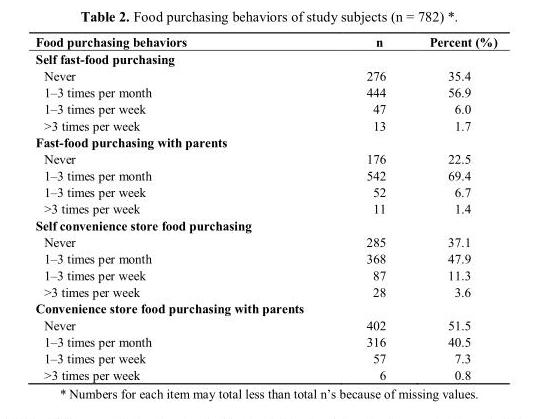table: (34, 34, 496, 381)
table column: (34, 34, 334, 381), (407, 34, 496, 381), (334, 34, 407, 381)
table column header: (34, 34, 496, 49)
table projected row header: (34, 49, 496, 66), (34, 133, 496, 150), (34, 216, 496, 233), (34, 299, 496, 316)
table row: (34, 49, 496, 66), (34, 66, 496, 83), (34, 83, 496, 100), (34, 116, 496, 133), (34, 133, 496, 150), (34, 166, 496, 183), (34, 199, 496, 216), (34, 216, 496, 233), (34, 249, 496, 266), (34, 266, 496, 283), (34, 299, 496, 316), (34, 316, 496, 333), (34, 349, 496, 366), (34, 100, 496, 116), (34, 150, 496, 166), (34, 183, 496, 199), (34, 233, 496, 249), (34, 283, 496, 299), (34, 333, 496, 349), (34, 34, 496, 49), (34, 366, 496, 381)
